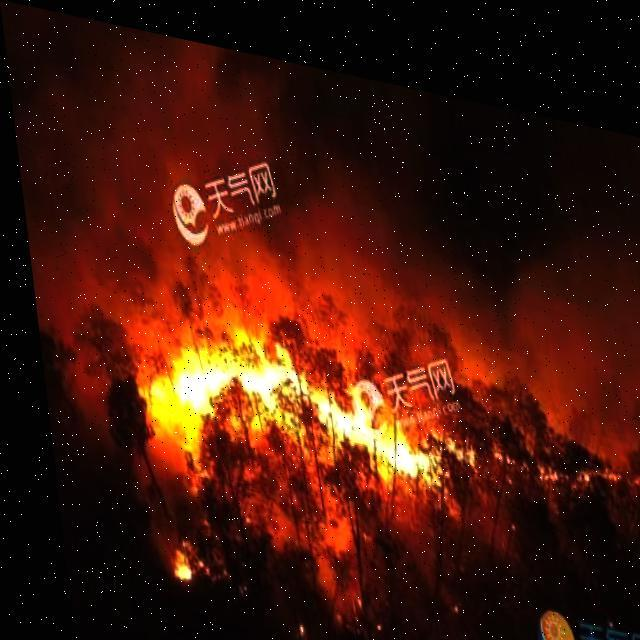Fire: (113, 283, 639, 520), (152, 528, 202, 590)
